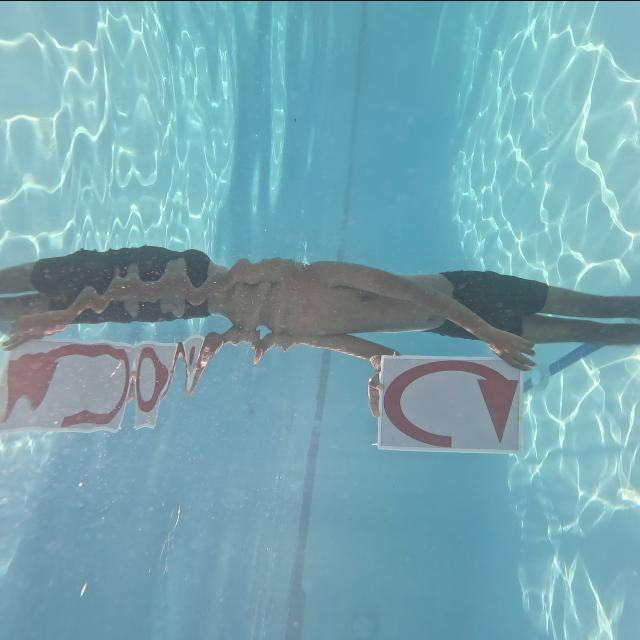red_side: (378, 352, 528, 452)
